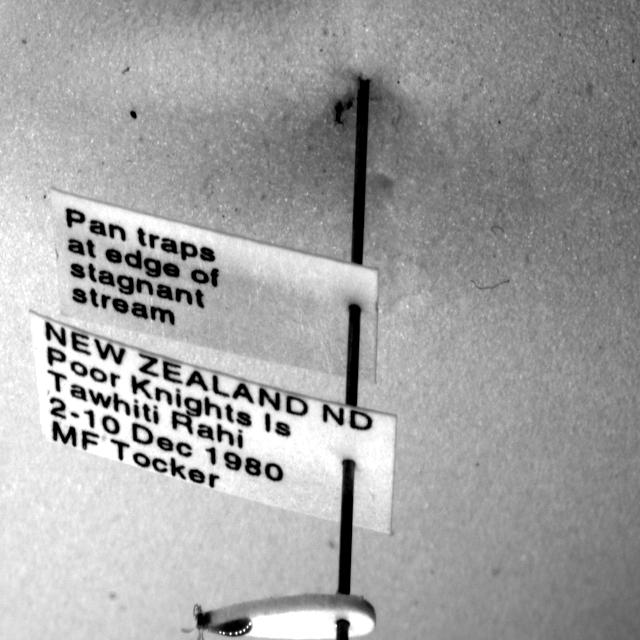typed_label: (31, 313, 396, 532), (51, 189, 378, 381)
